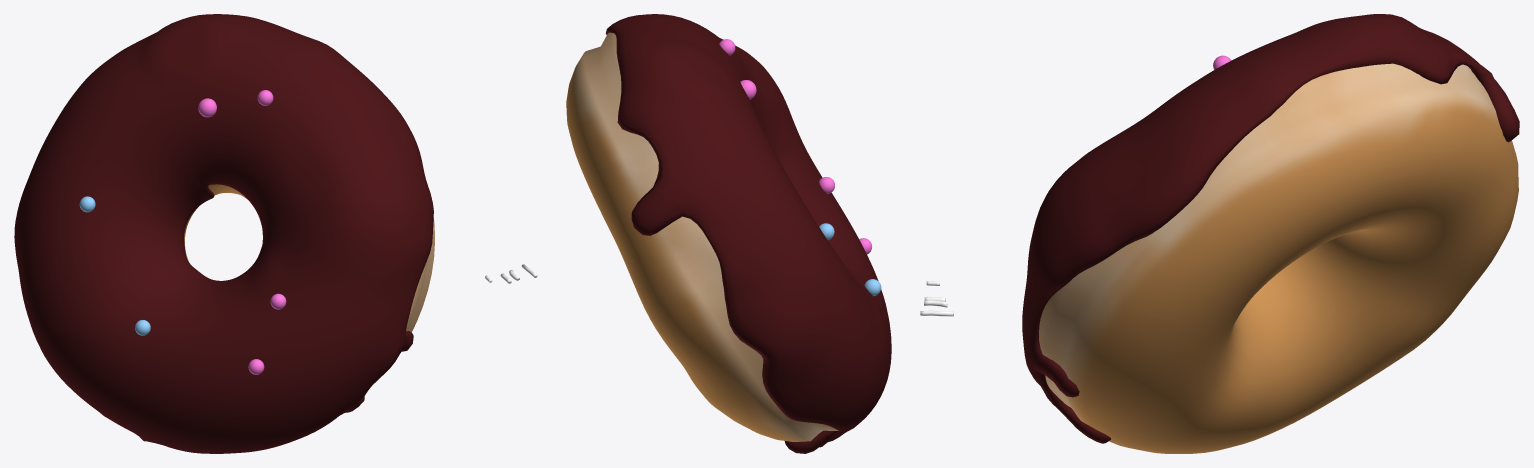
The model's file is Dona.gltf.
3 renders of one model, left to right at view 1: azimuth 30°, elevation 25°; view 2: azimuth 150°, elevation 25°; view 3: azimuth 270°, elevation 25°, orthographic. The views are drawn at different scales.
Parts seen in each view (by area): view 1: Rosca.001, Icing; view 2: Rosca.001, Icing; view 3: Icing, Rosca.001.
Part boxes in pixels (x1,y1,x2,y2): Rosca.001: [14, 14, 433, 453]; Icing: [184, 184, 434, 384]; Rosca.001: [605, 14, 891, 453]; Icing: [566, 32, 837, 441]; Icing: [1039, 63, 1518, 453]; Rosca.001: [1022, 14, 1519, 443].
Size of what is drawn, in the model's own units: 0.0874 by 0.0932 by 0.1099.
5 materials, 1 textured.
